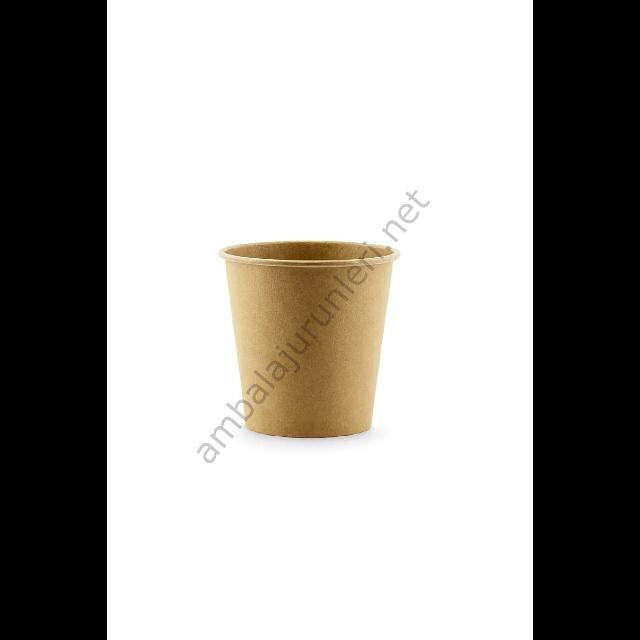trash: (210, 235, 428, 458)
